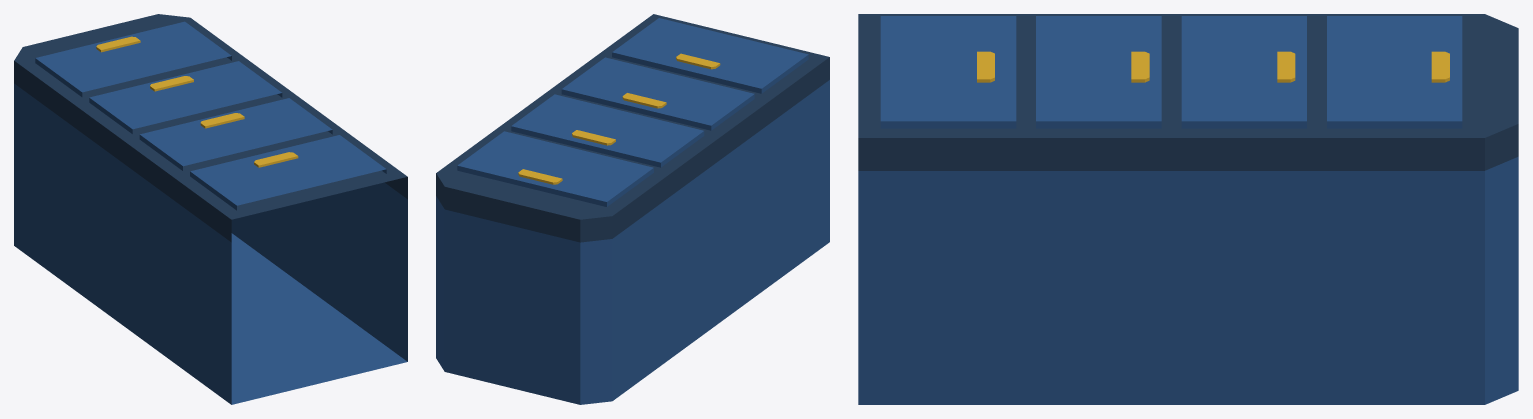
Rendered from Cabinet 01.FBX.
3 views of the same model, side by side, from view 1: azimuth 30°, elevation 25°; view 2: azimuth 150°, elevation 25°; view 3: azimuth 270°, elevation 25° (orthographic). The views are drawn at different scales.
Visible parts, largest first — view 1: Cabinet 01; view 2: Cabinet 01; view 3: Cabinet 01.
Boxes of the visible parts, x1,y1,x2,y2 form: Cabinet 01: (14,14,407,404); Cabinet 01: (436,14,829,404); Cabinet 01: (858,14,1518,404).
Size of the model in its own units: 82.75 by 86.34 by 186.
Materials: 1 (1 with a texture image).
